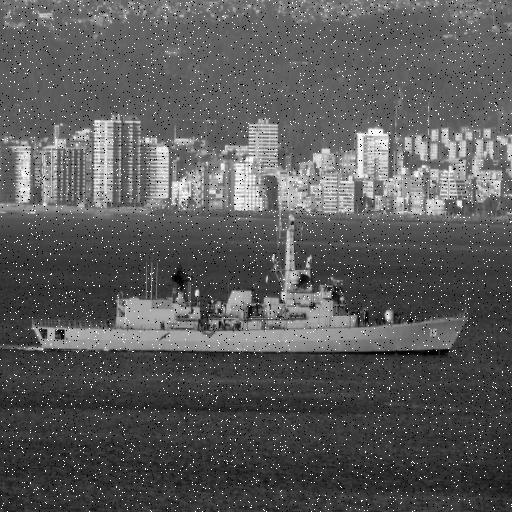Fragata: (30, 213, 473, 361)
